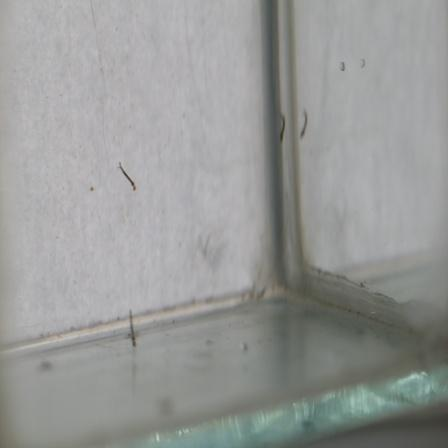Jentik-Nyamuk: (115, 158, 139, 193), (126, 306, 141, 348), (276, 112, 288, 144)
